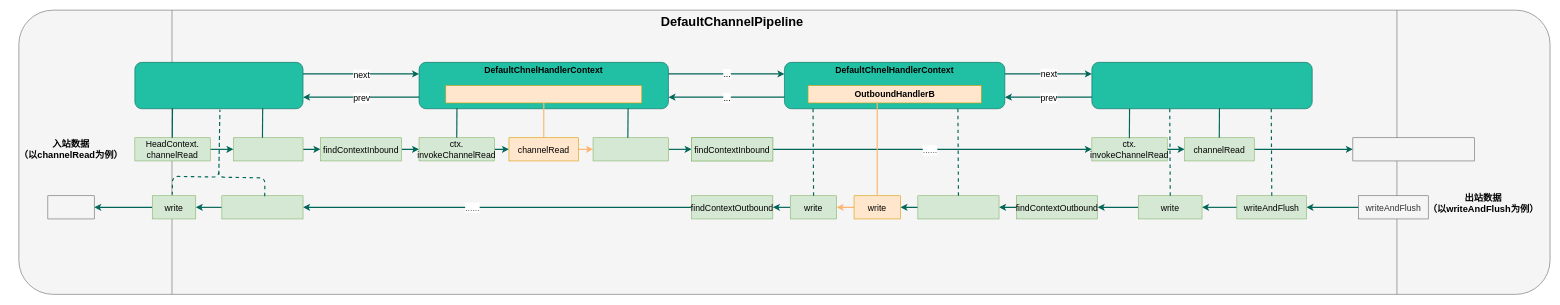
This 1560x305 diagram has some shape labels left out. The centre of each missing label's shape, as x and y in pixels:
ctx. fireChannelRead: pixel 630 149
ctx. invokeWriteAndFlush: pixel 958 207
HeadContext: pixel 218 85
HeadContext. fireChannelRead: pixel 268 149
InboundHandlerA: pixel 543 94
invokeWrite0: pixel 262 207
onUnhandledInboundMessage: pixel 1413 149
TailContext: pixel 1201 85
Unsafe. write: pixel 70 207
